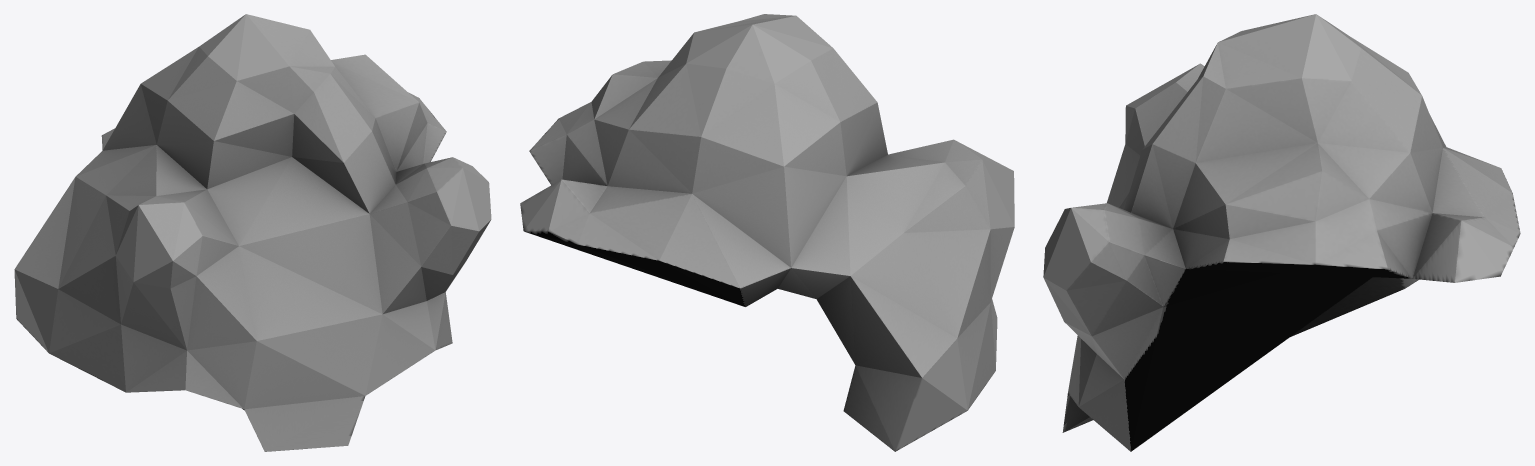
Rendered from asteroid_split_part1.fbx.
The picture shows the model from 3 angles, left to right: view 1: azimuth 30°, elevation 25°; view 2: azimuth 150°, elevation 25°; view 3: azimuth 270°, elevation 25°; orthographic projection. The views are drawn at different scales.
Visible parts, largest first — view 1: Cube.001; view 2: Cube.001; view 3: Cube.001.
Part boxes in pixels (x1,y1,x2,y2): Cube.001: (14,14,491,451); Cube.001: (520,14,1014,451); Cube.001: (1043,14,1520,451).
Size of the model in its own units: 4.17 by 3.83 by 3.93.
